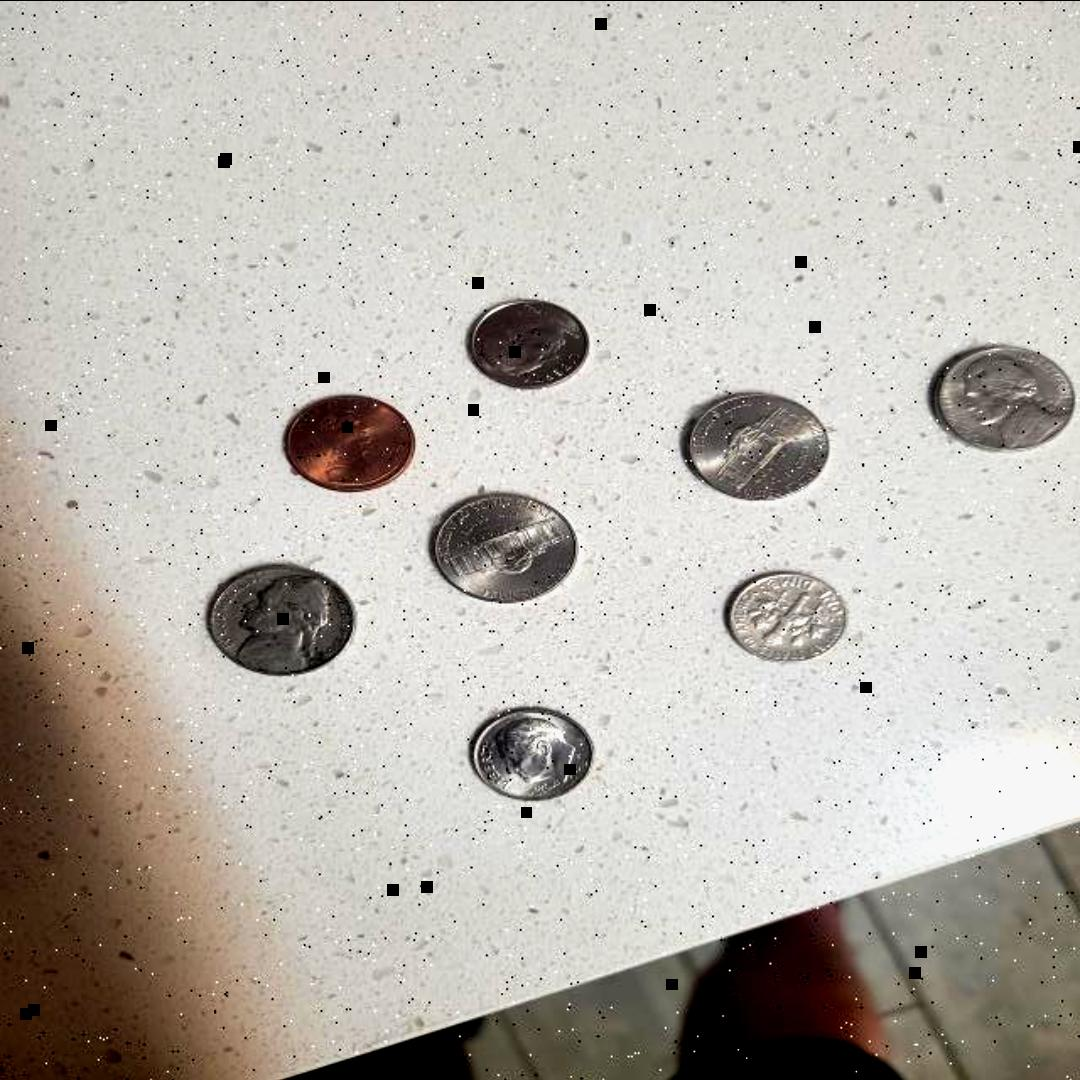Dime: (722, 566, 852, 667), (462, 706, 592, 804), (463, 297, 591, 391)
Nickel: (201, 562, 361, 680), (674, 388, 834, 502), (426, 488, 580, 606), (918, 342, 1074, 456)
Penny: (282, 390, 414, 494)
